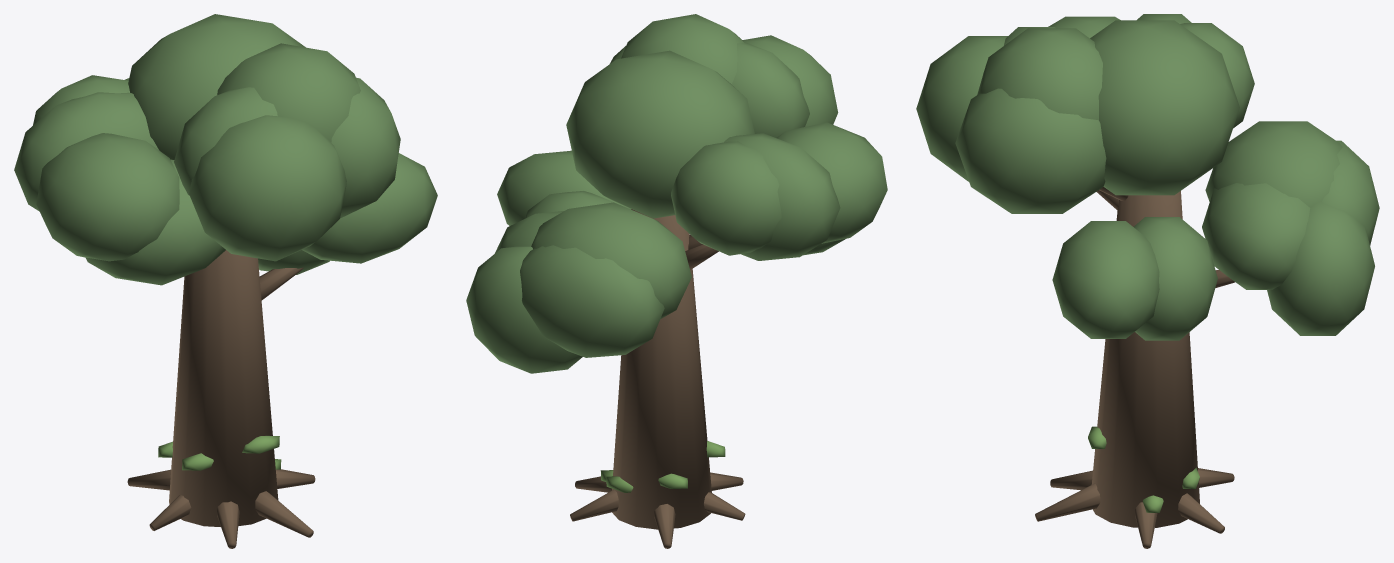
The model's file is ancient_tree_2.glb.
The picture shows the model from 3 angles, left to right: view 1: azimuth 30°, elevation 25°; view 2: azimuth 150°, elevation 25°; view 3: azimuth 270°, elevation 25°; orthographic projection. The views are drawn at different scales.
Parts seen in each view (by area): view 1: AncientTreeCanopyV2, AncientTreeTrunkV2, AncientTreeMossV2; view 2: AncientTreeCanopyV2, AncientTreeTrunkV2, AncientTreeMossV2; view 3: AncientTreeCanopyV2, AncientTreeTrunkV2, AncientTreeMossV2.
Boxes of the visible parts, x1,y1,x2,y2 form: AncientTreeCanopyV2: (14,14,437,285); AncientTreeTrunkV2: (127,250,315,548); AncientTreeMossV2: (158,435,281,470); AncientTreeCanopyV2: (466,14,887,373); AncientTreeTrunkV2: (570,209,745,548); AncientTreeMossV2: (600,441,725,492); AncientTreeCanopyV2: (916,14,1379,340); AncientTreeTrunkV2: (1035,187,1234,548); AncientTreeMossV2: (1088,426,1199,512).
Bounding box in the file's own units: 5.82 × 6.94 × 6.05.
